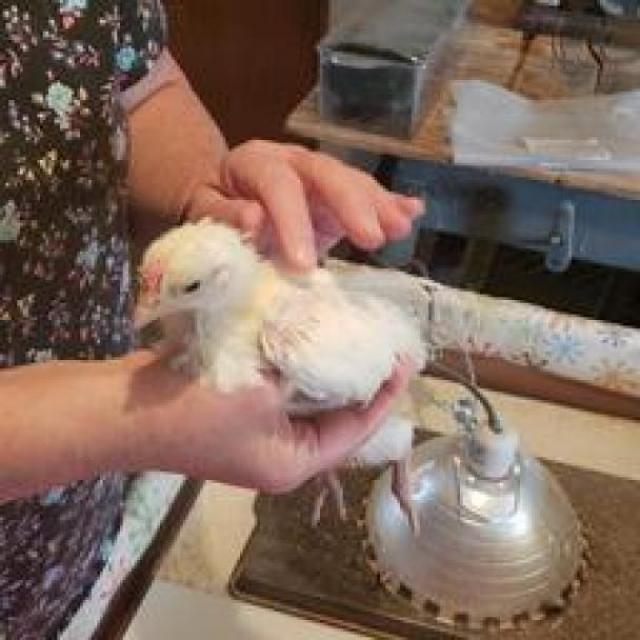Chicken: (122, 217, 484, 549)
